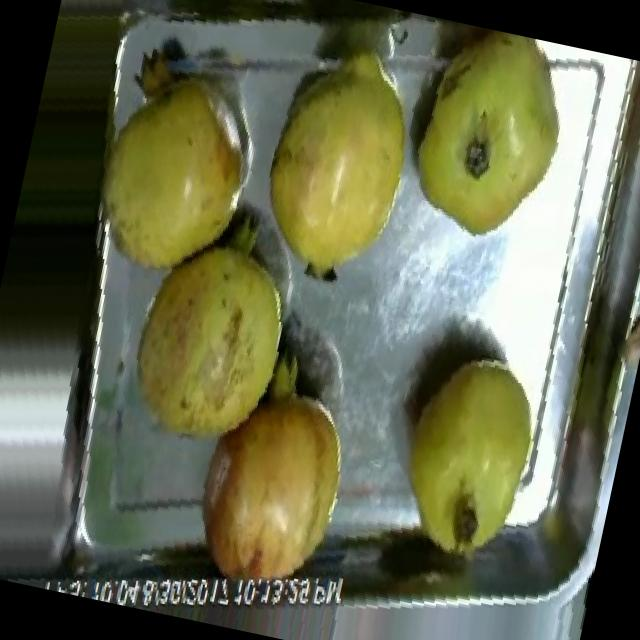fruit: (94, 192, 330, 476), (64, 29, 284, 308), (230, 23, 443, 309), (173, 336, 380, 618), (370, 328, 566, 590), (383, 19, 590, 266)
